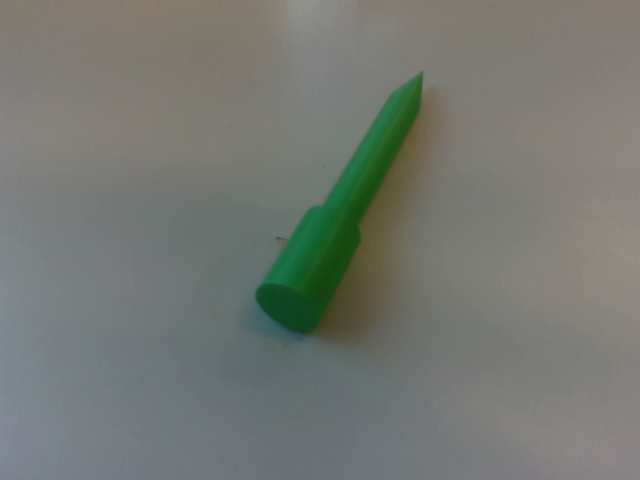Probe: (249, 60, 430, 343)
